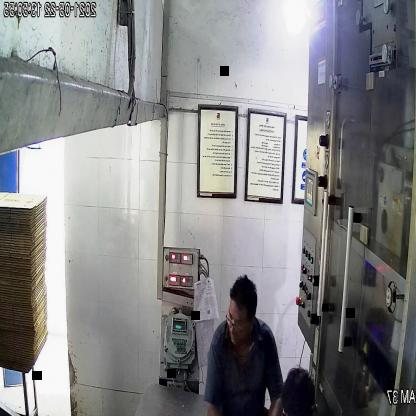goggles: (224, 313, 253, 337)
